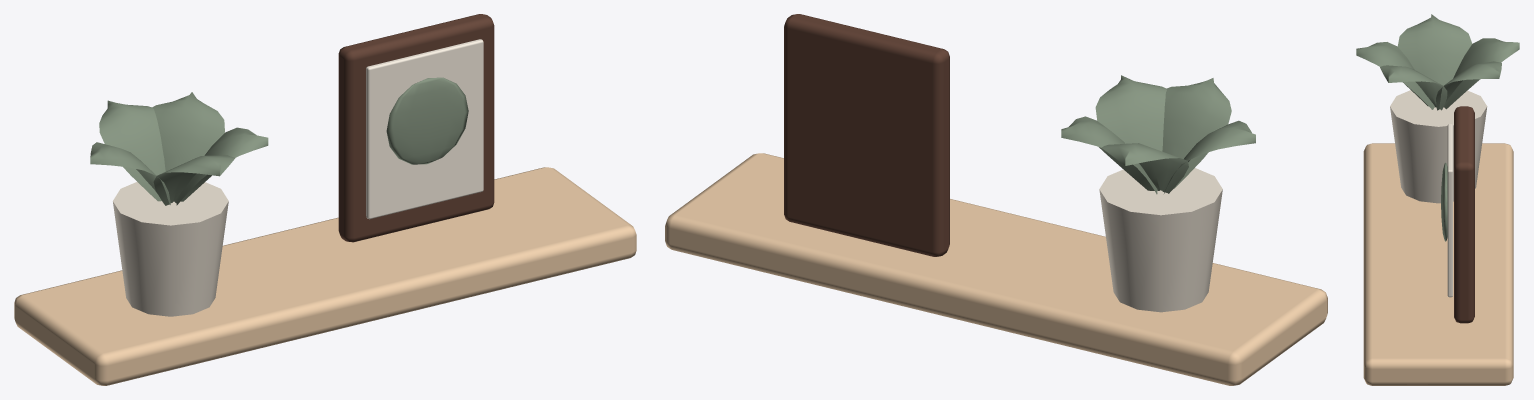
Rendered from suite_wall_shelf.glb.
3 views of the same model, side by side, from view 1: azimuth 30°, elevation 25°; view 2: azimuth 150°, elevation 25°; view 3: azimuth 270°, elevation 25° (orthographic). The views are drawn at different scales.
Size of the model in its own units: 1.12 by 0.4425 by 0.3493.
